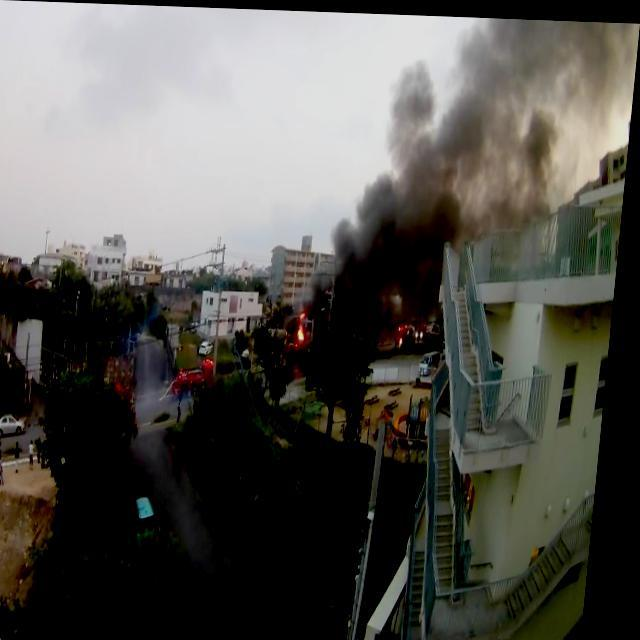Fire: (302, 310, 314, 338)
